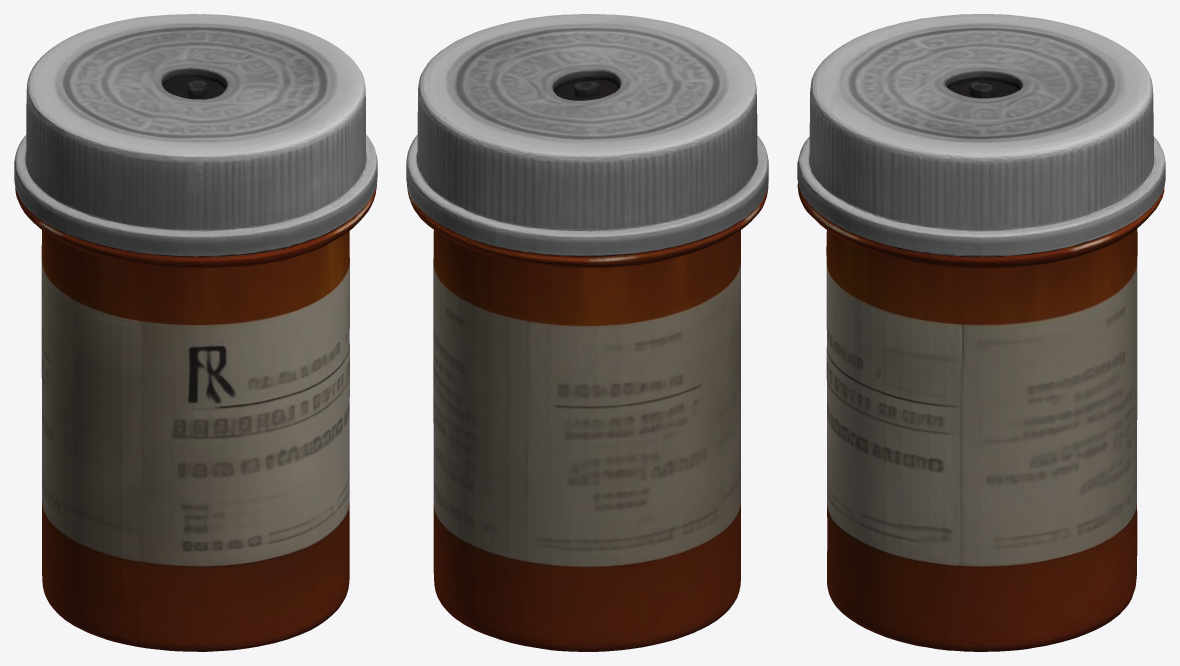
Rendered from pill_bottle.glb.
3 renders of one model, left to right at view 1: azimuth 30°, elevation 25°; view 2: azimuth 150°, elevation 25°; view 3: azimuth 270°, elevation 25°, orthographic.
Visible parts, largest first — view 1: geometry_0; view 2: geometry_0; view 3: geometry_0.
Part boxes in pixels (bbox=[...]): geometry_0: bbox=[14, 14, 377, 651]; geometry_0: bbox=[406, 14, 768, 651]; geometry_0: bbox=[797, 14, 1165, 651].
Bounding box in the file's own units: 0.6518 × 0.9975 × 0.6574.
Materials: 1 (1 with a texture image).
